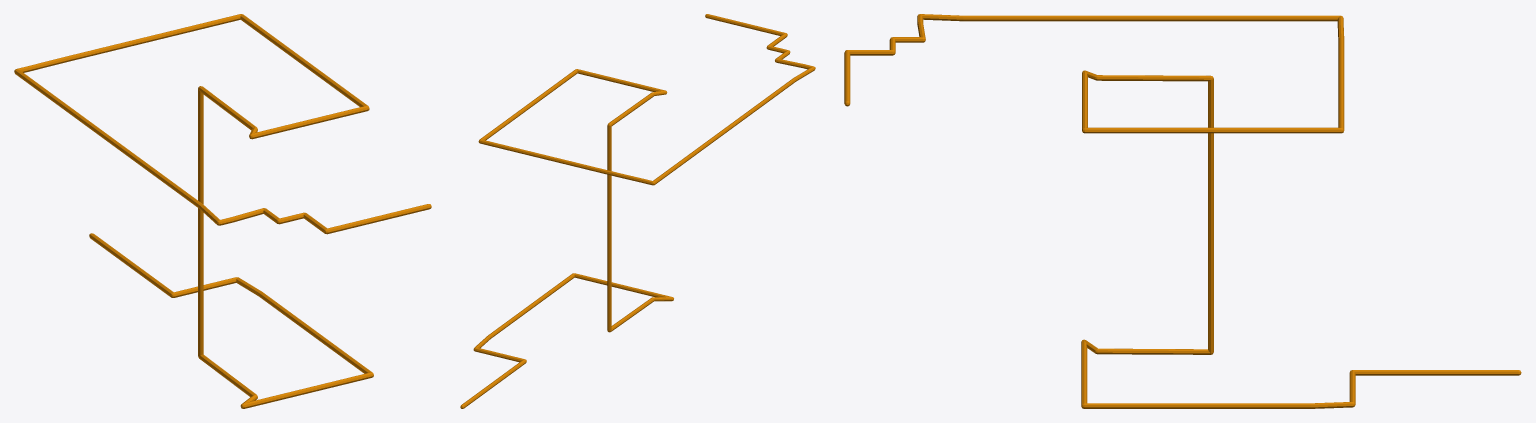
The picture shows the model from 3 angles, left to right: view 1: azimuth 30°, elevation 25°; view 2: azimuth 150°, elevation 25°; view 3: azimuth 270°, elevation 25°; orthographic projection. The views are drawn at different scales.
Bounding box in the file's own units: 928 × 1020 × 2244.
